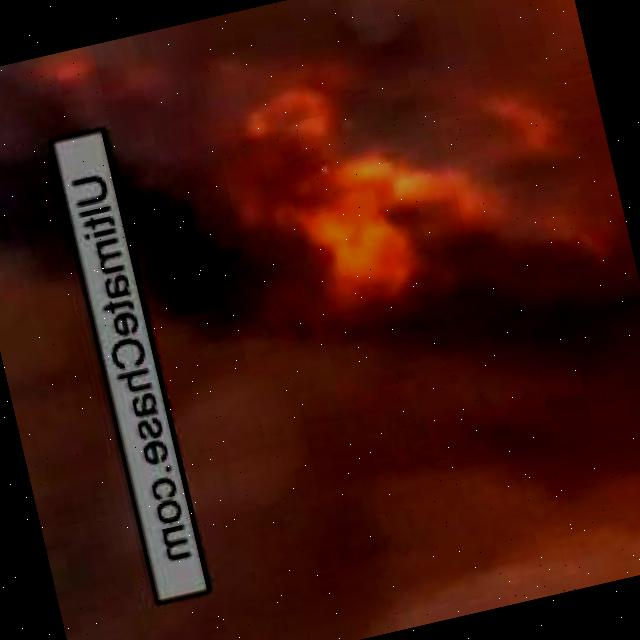fire: (180, 14, 623, 383), (11, 43, 106, 109)
